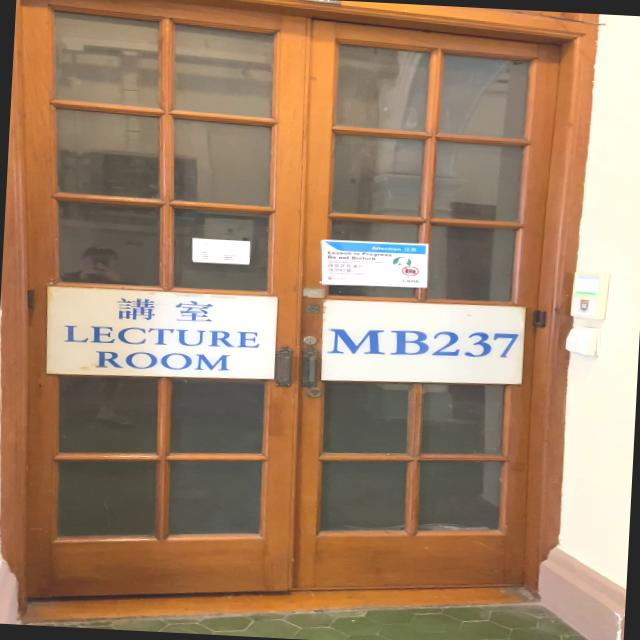room237Window: (318, 300, 526, 386)
